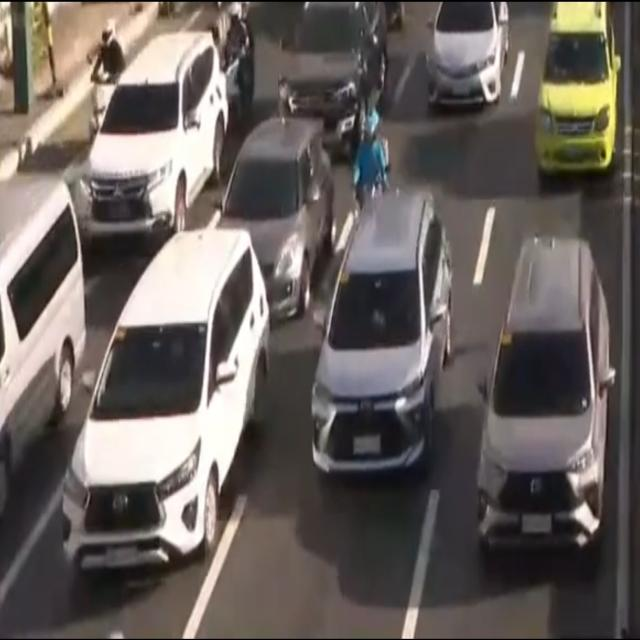Motorcycle: (208, 0, 252, 144), (81, 19, 130, 132), (347, 114, 389, 237)
SUV: (63, 228, 265, 578), (472, 237, 610, 559), (307, 200, 455, 486), (75, 31, 228, 240), (276, 0, 388, 144), (536, 0, 615, 179)
Sedan: (216, 123, 332, 317), (422, 0, 514, 114)
Van: (0, 169, 81, 526)
